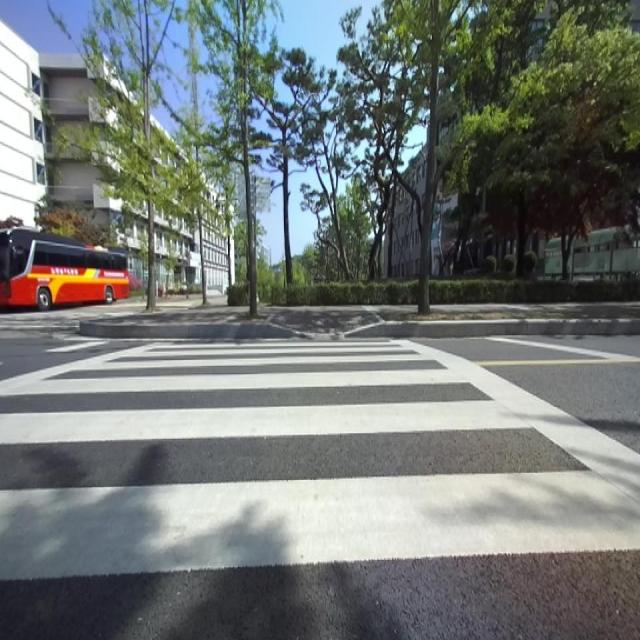sidewalk: (430, 302, 640, 319), (89, 305, 248, 322), (274, 308, 377, 334), (275, 305, 418, 314), (257, 307, 284, 314)
